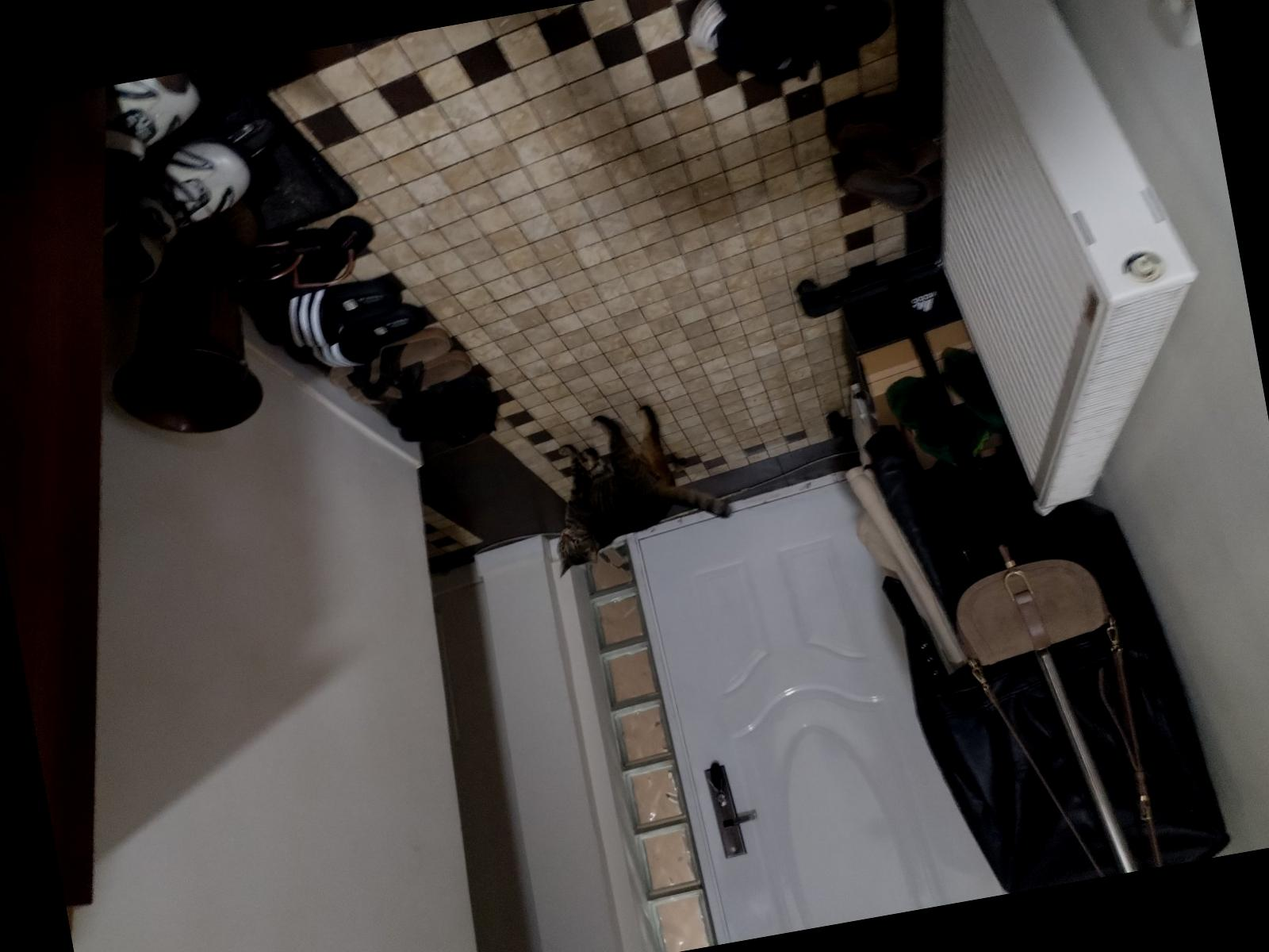macka: (535, 393, 740, 578)
